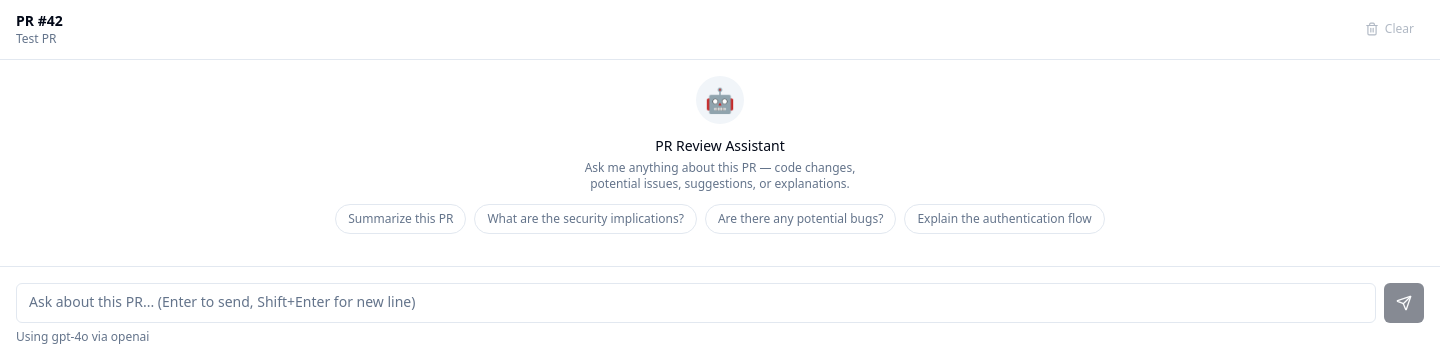
ChatWindow stream fallbacks › falls back to non-stream chat when stream yields no visible output
Replace the text in the text box with placeholder "Ask about this PR" with "Please review this" at (696, 303), box top-left (16, 283), bottom-right (1376, 323)
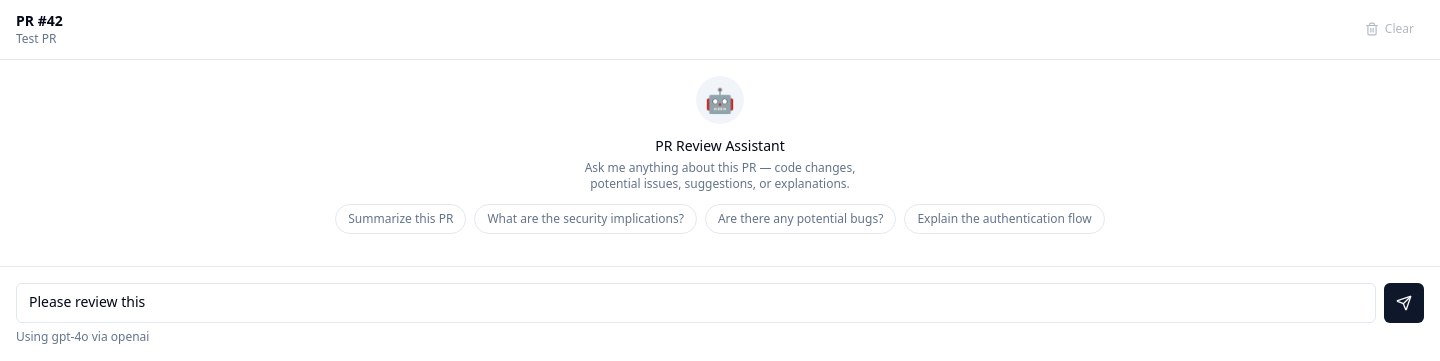
Click the button titled "Send message" at (1404, 303), box top-left (1384, 283), bottom-right (1424, 323)
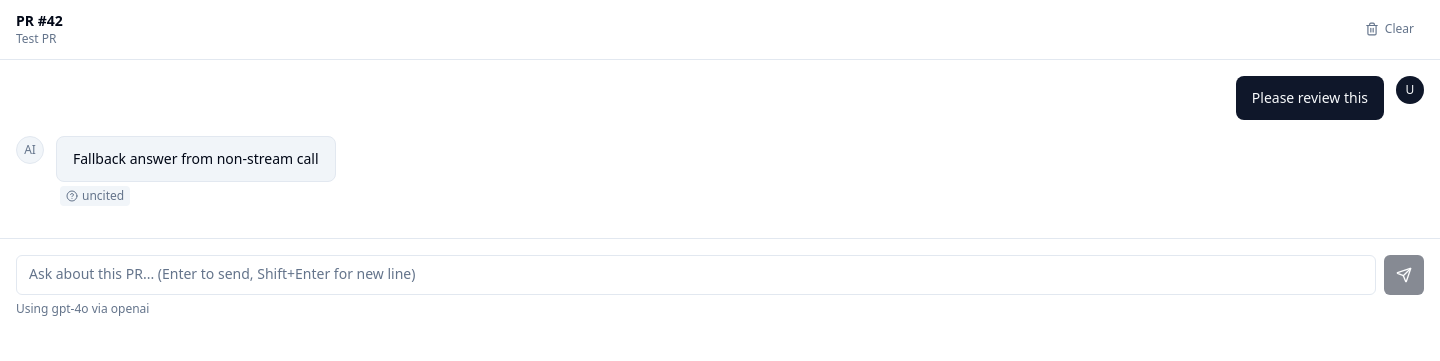
Now the text "Fallback answer from non-stream call" is shown, box top-left (73, 149), bottom-right (318, 169)
